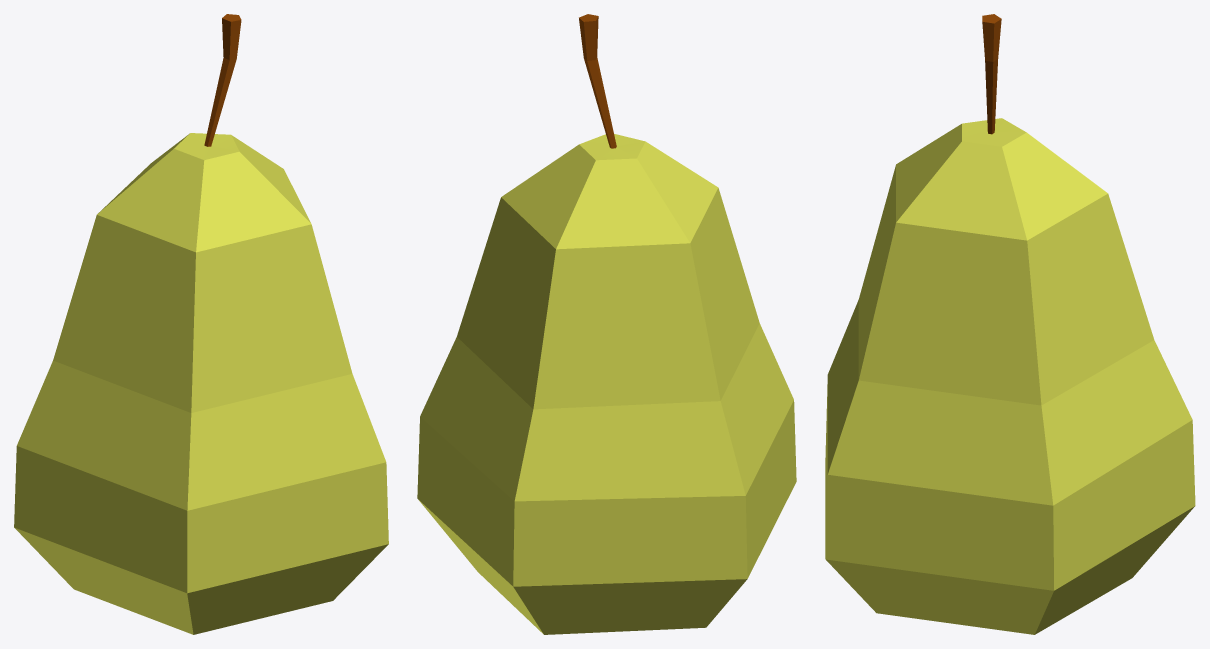
File: Pear.fbx
3 views of the same model, side by side, from view 1: azimuth 30°, elevation 25°; view 2: azimuth 150°, elevation 25°; view 3: azimuth 270°, elevation 25° (orthographic). The views are drawn at different scales.
Visible parts, largest first — view 1: Pear; view 2: Pear; view 3: Pear.
Part boxes in pixels (x1,y1,x2,y2): Pear: (14,14,388,634); Pear: (417,14,796,634); Pear: (825,14,1195,634).
Size of the model in its own units: 112 by 187 by 107.
